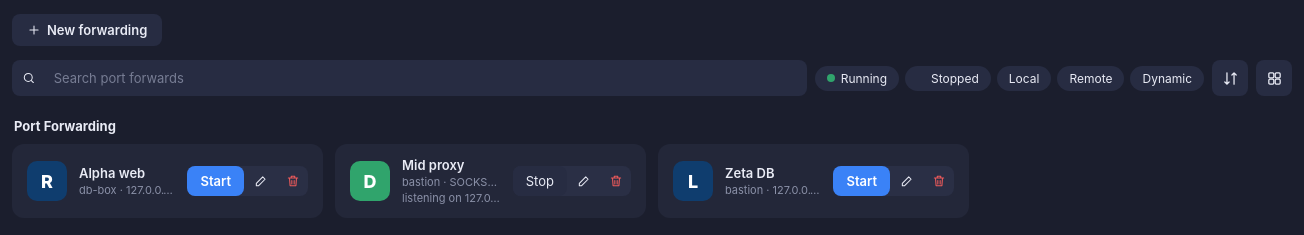
Port Forwarding page: filter, sort and view › searches the name, the host, the ports and the type
This screenshot has width=1304, height=235.
Check: the text "Zeta DB" is shown, box [725,165,774,181]
Type "db-box" into the field labelled "Search port forwards".
click(419, 78); type("db-box")  # box [42,59,797,97]
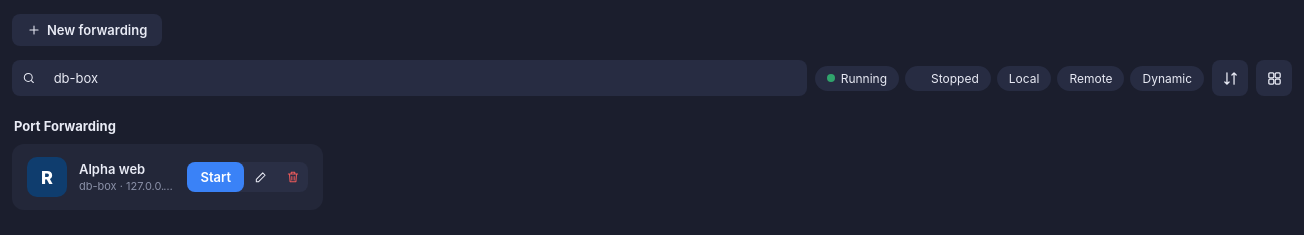
Replace the text in the field named "Search port forwards" with "5432" at (419, 78), box [42,59,797,97]
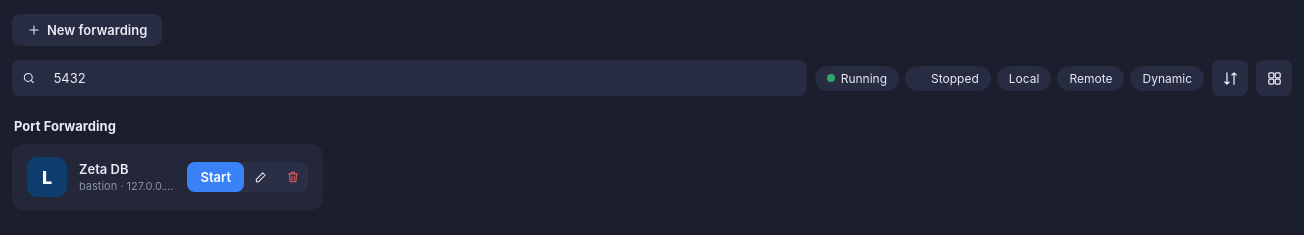
Replace the text in the field named "Search port forwards" with "socks" at (419, 78), box [42,59,797,97]
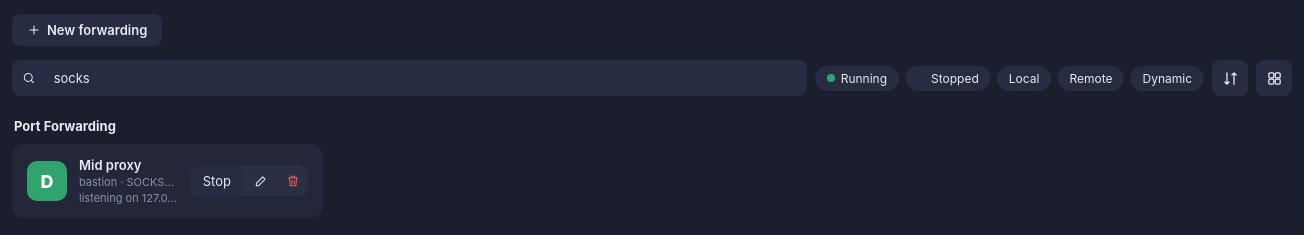
Replace the text in the field named "Search port forwards" with "zzz" at (419, 78), box [42,59,797,97]
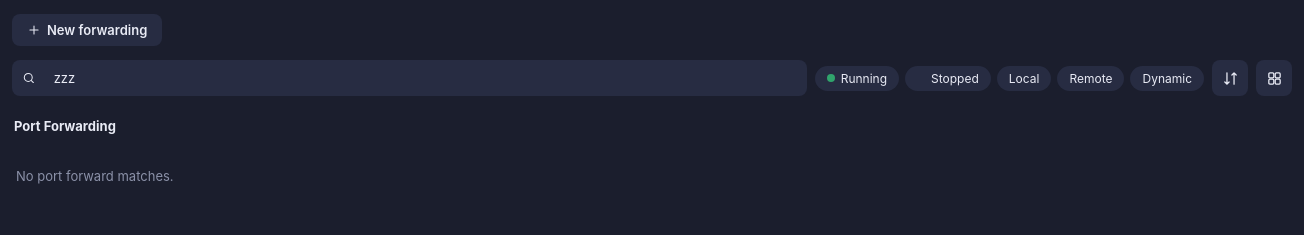
Check: the text "No port forward matches." is shown, box [16,168,174,184]
